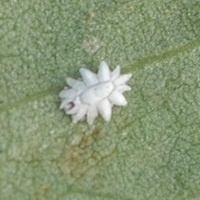insect: (59, 61, 131, 124)
